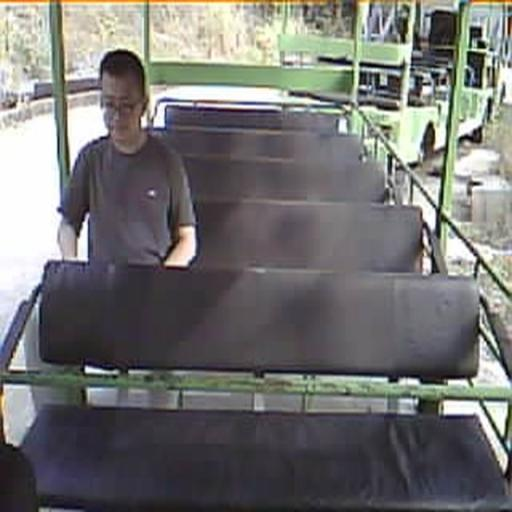persona: (56, 48, 198, 271)
